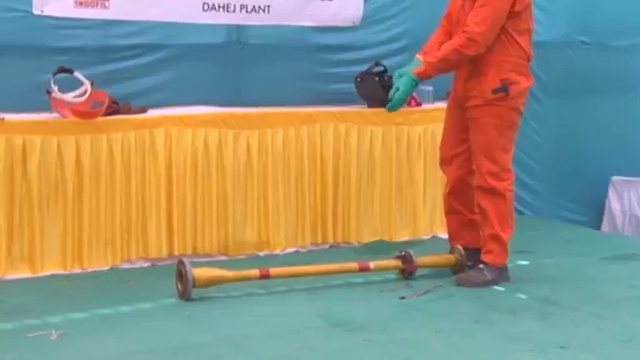person: (377, 1, 538, 290)
